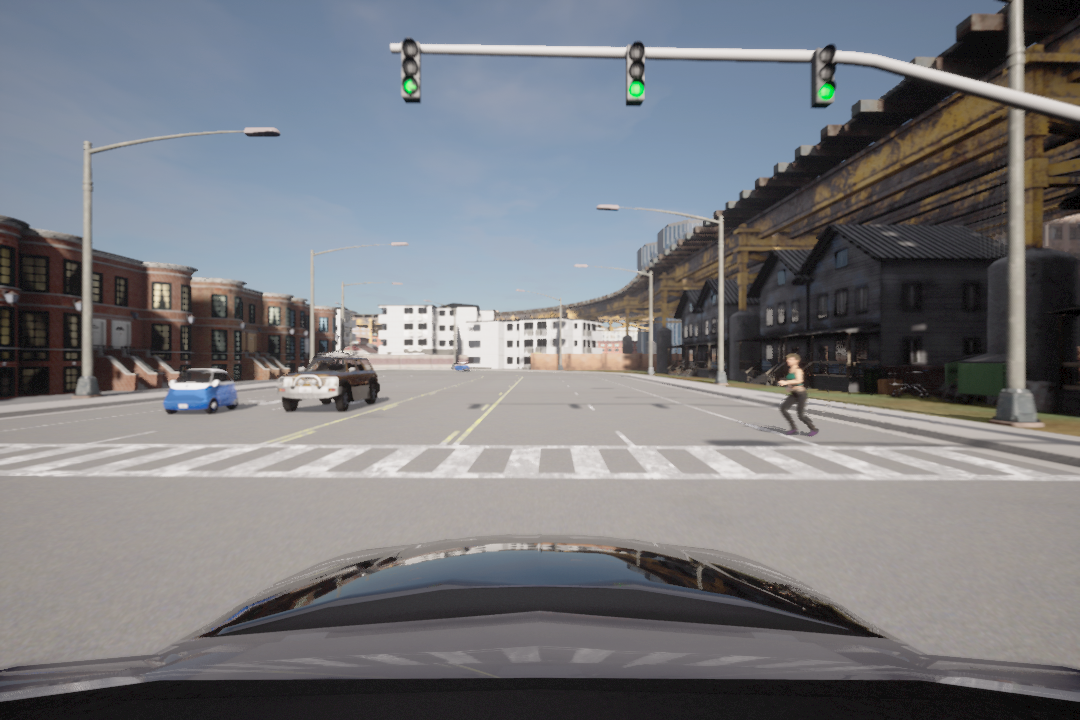TrafficLight: (394, 37, 424, 107), (810, 40, 837, 107), (625, 35, 647, 108)
walkside: (1, 443, 1065, 481)
